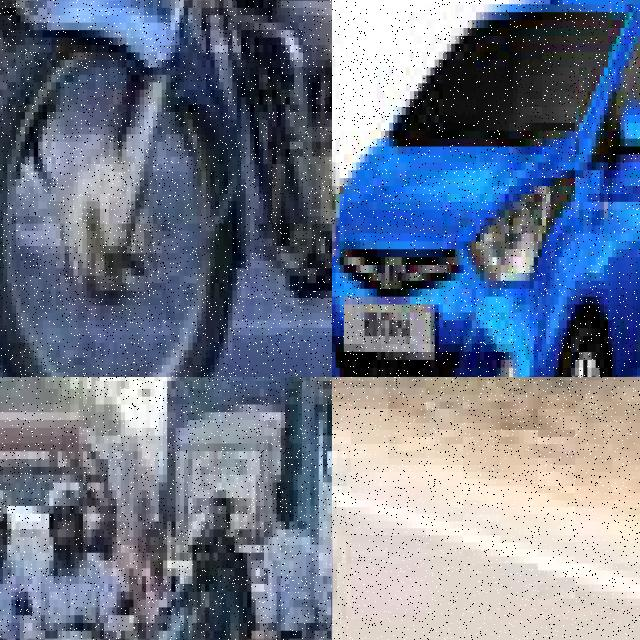bike: (0, 0, 332, 377), (0, 0, 69, 377), (150, 576, 251, 640)
car: (332, 0, 640, 377)
